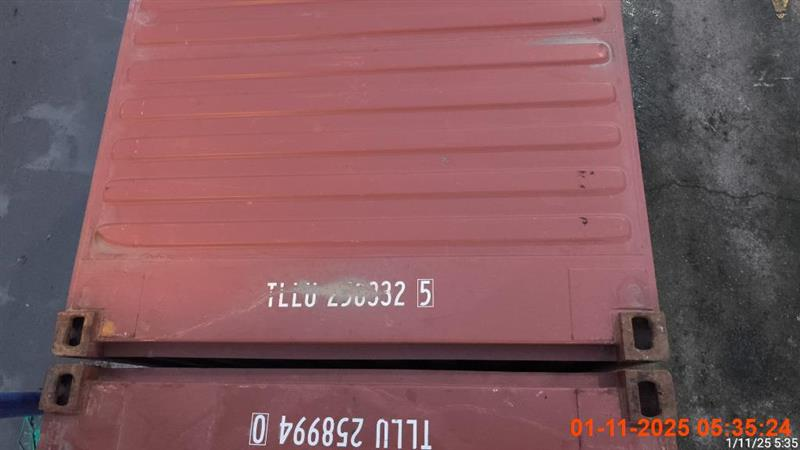dent: (20, 1, 679, 442)
